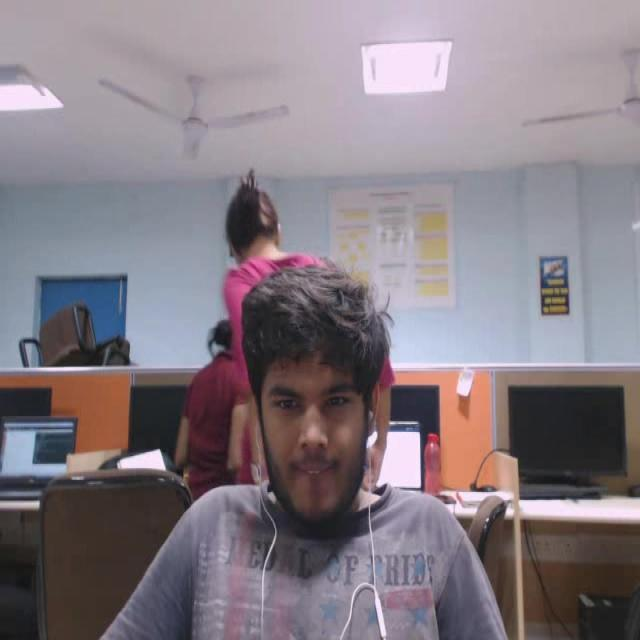Engaged: (218, 261, 414, 561)
